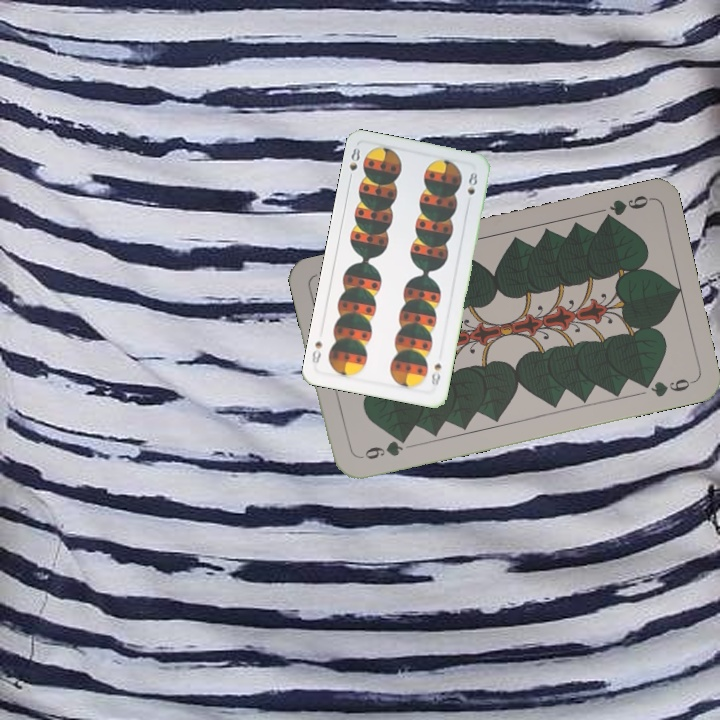G9: (598, 191, 654, 225), (354, 433, 410, 462)
S8: (345, 143, 363, 184), (427, 359, 444, 389)
